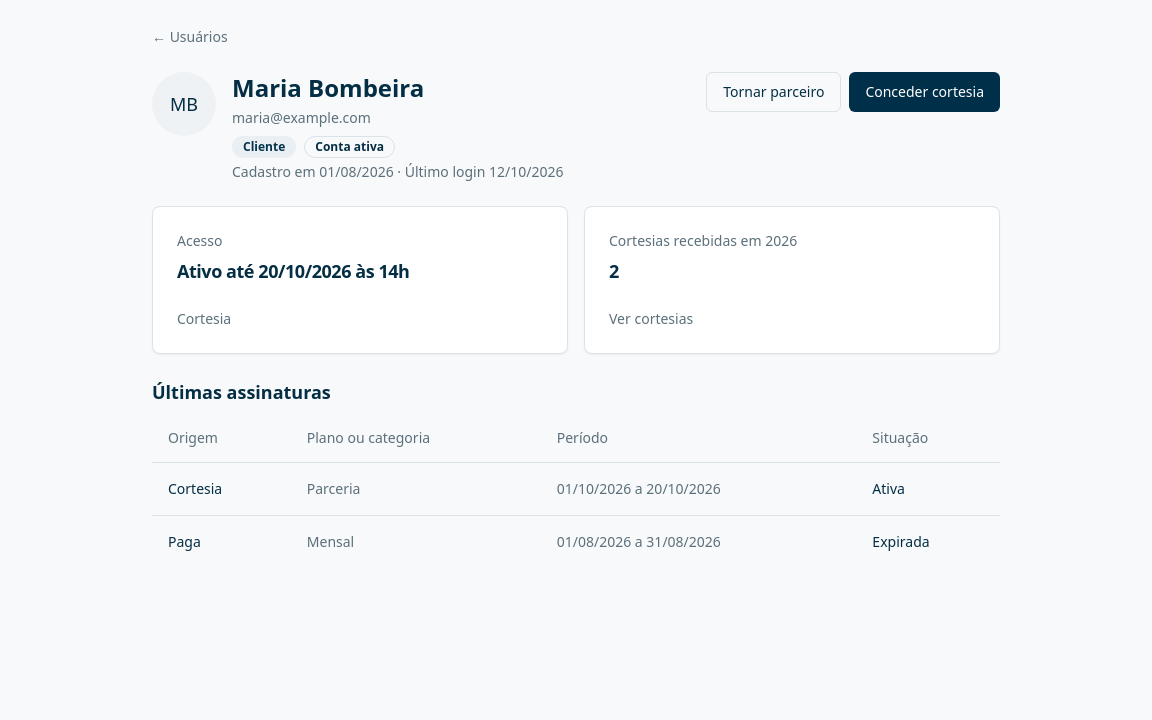
Test: UserDetailPage (PROF-RF-014) › cliente ativo: oferece tornar parceiro e conceder cortesia com o e-mail já preenchido
The image size is (1152, 720).
Check: the button "Tornar parceiro" is shown, box [706,72,841,112]
Click the button "Conceder cortesia" at x=925, y=92, box [849,72,1000,112]
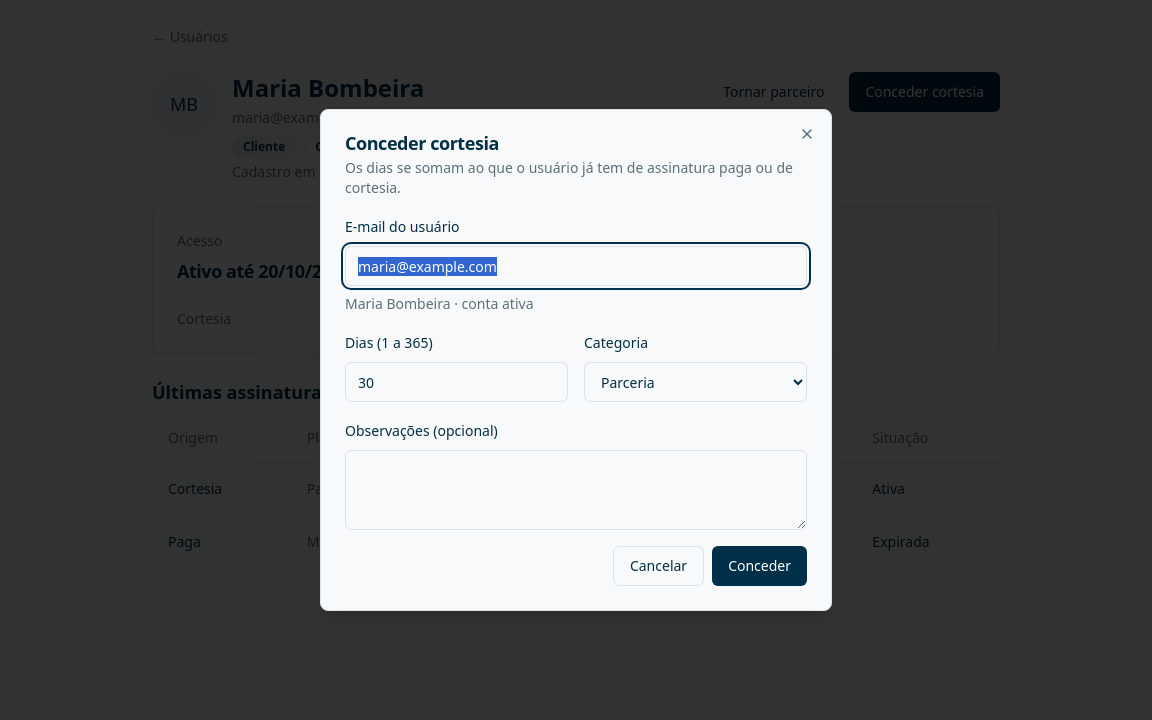
Check: the field labelled "E-mail do usuário" holds "maria@example.com", box [345,246,807,286]
